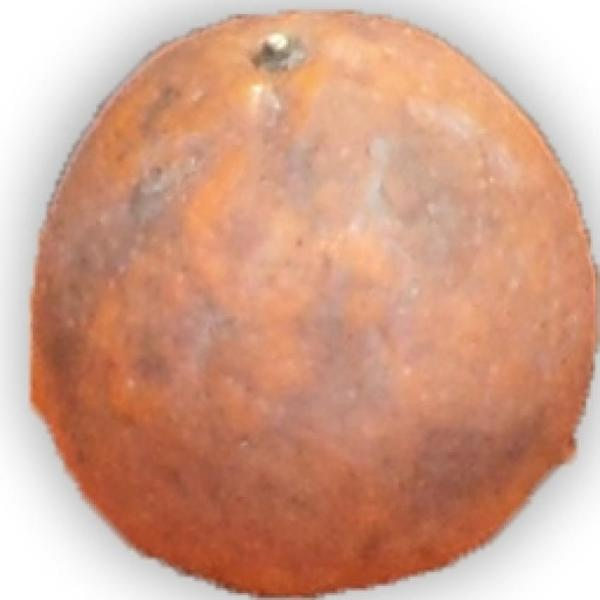Canker: (17, 0, 596, 598)
